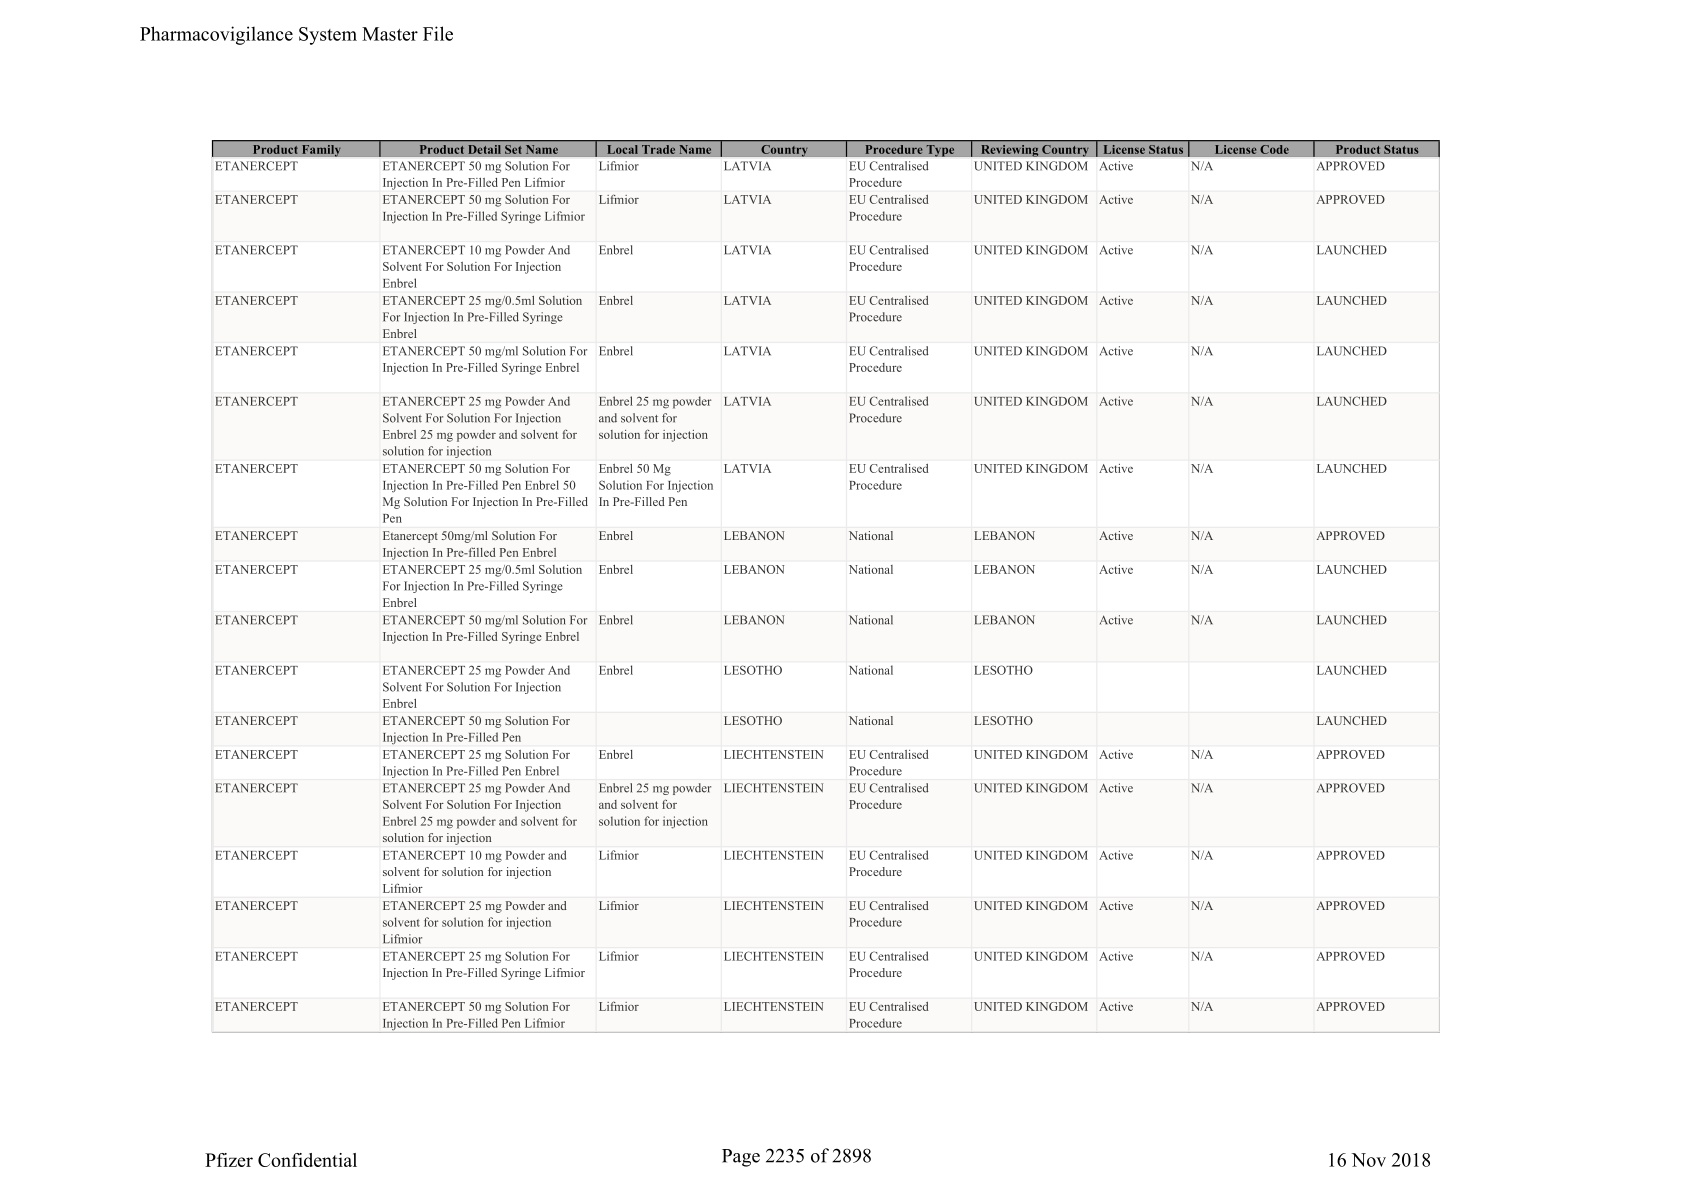full_lined: (210, 140, 1441, 1032)
